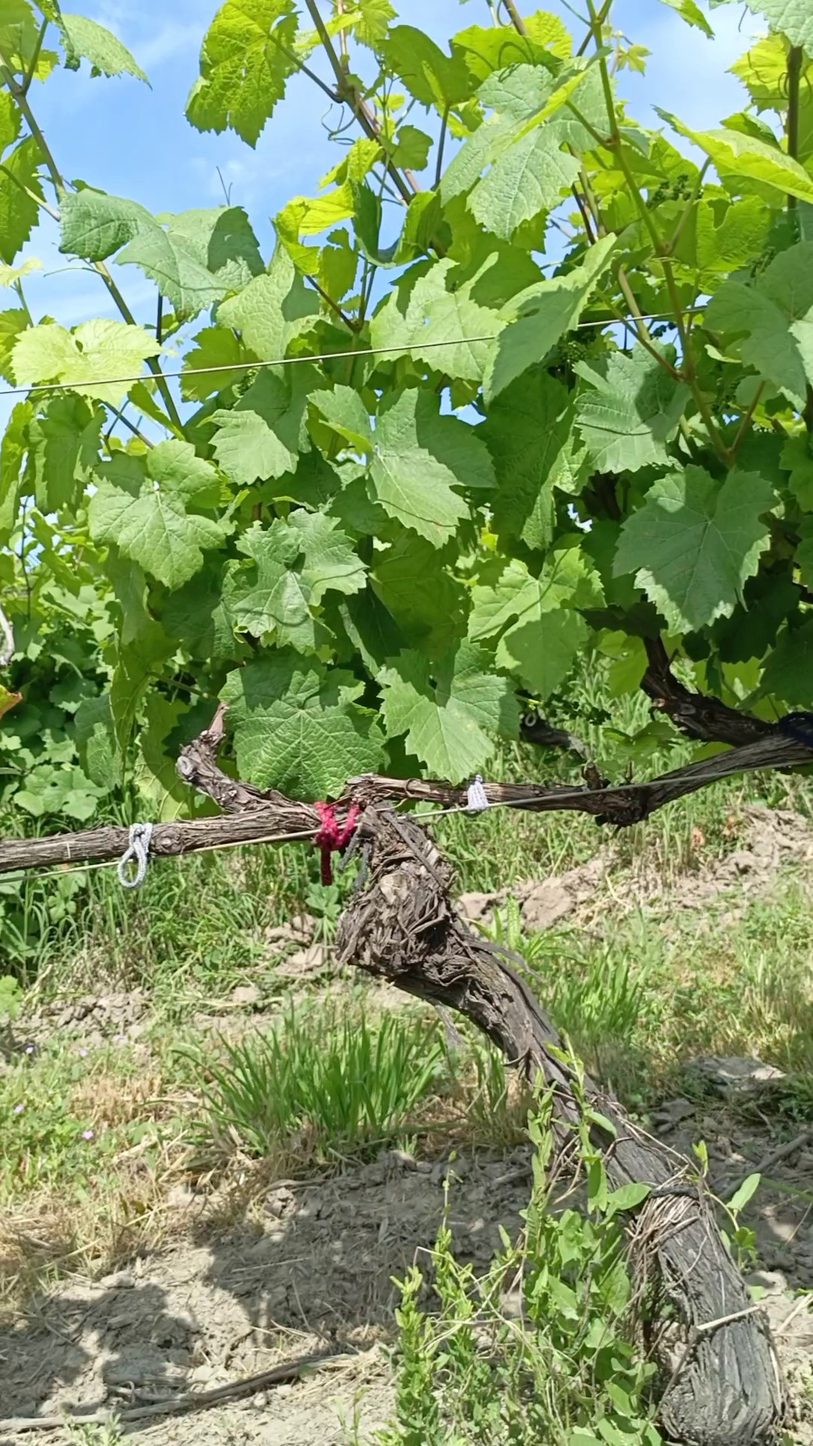vine_trunk: (336, 776, 782, 1445)
